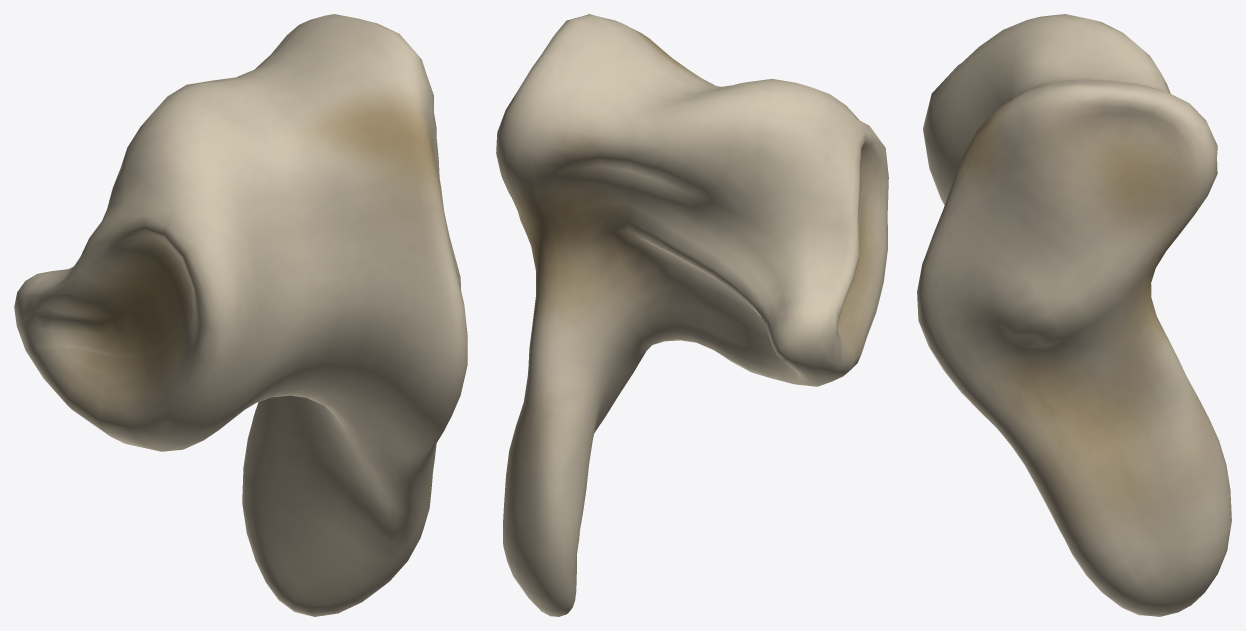
The model's file is R talus.fbx.
3 renders of one model, left to right at view 1: azimuth 30°, elevation 25°; view 2: azimuth 150°, elevation 25°; view 3: azimuth 270°, elevation 25°, orthographic. The views are drawn at different scales.
Visible parts, largest first — view 1: R talus; view 2: R talus; view 3: R talus.
Part boxes in pixels (<box>): R talus: <box>14,14,467,616</box>; R talus: <box>496,14,888,616</box>; R talus: <box>917,14,1231,616</box>.
Bounding box in the file's own units: 4.99 × 7.79 × 4.1.
